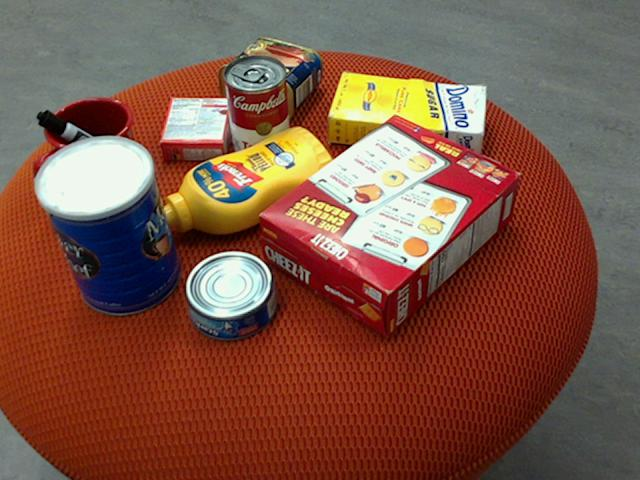cracker_box: (259, 113, 522, 335)
gelatin_box: (159, 96, 234, 160)
large_marker: (37, 110, 139, 176)
master_chef_can: (32, 136, 181, 316)
mug: (37, 97, 142, 202)
mustard_bottle: (152, 126, 339, 234)
potted_meat_can: (219, 38, 323, 120)
sugar_box: (328, 72, 488, 157)
tomato_soup_can: (224, 53, 290, 163)
tuna_fish_can: (185, 251, 278, 341)
